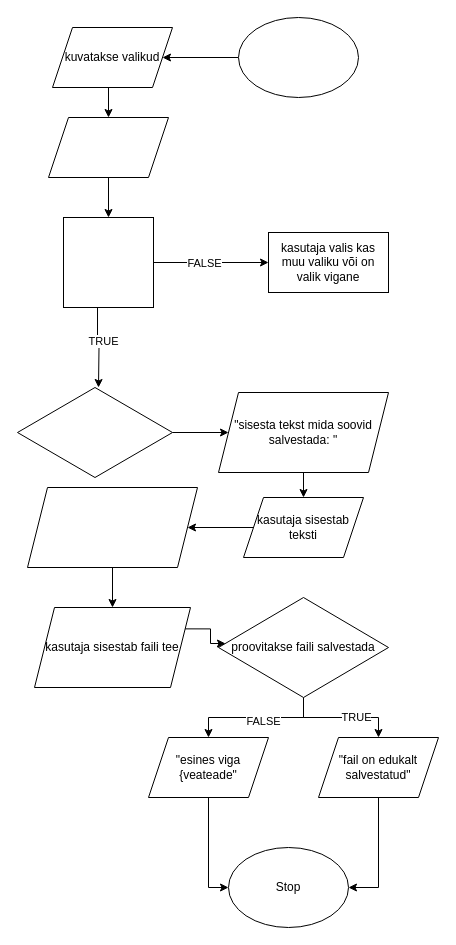
This 456x945 diagram has some shape labels left out. Here are the shapes that lost their labels. From the top down, the box of each, then its label:
(238, 16, 358, 98): start (main)
(48, 116, 168, 178): kasutaja valib ühe
(62, 216, 154, 308): kas valik on 3?
(16, 386, 172, 478): kaivita IFjaElse
(26, 486, 198, 568): "sisesta faili tee kuhu soovid salvestada: "
